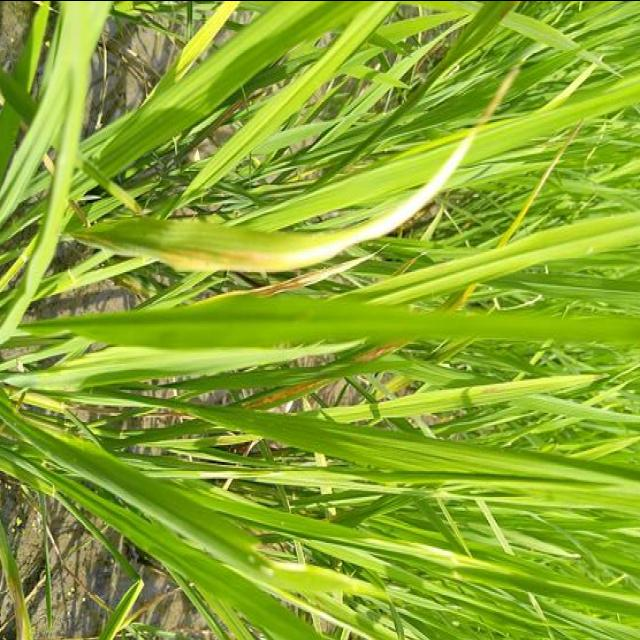Leaf Blight: (93, 64, 518, 271), (241, 253, 375, 294), (238, 377, 341, 406), (353, 338, 409, 364)
